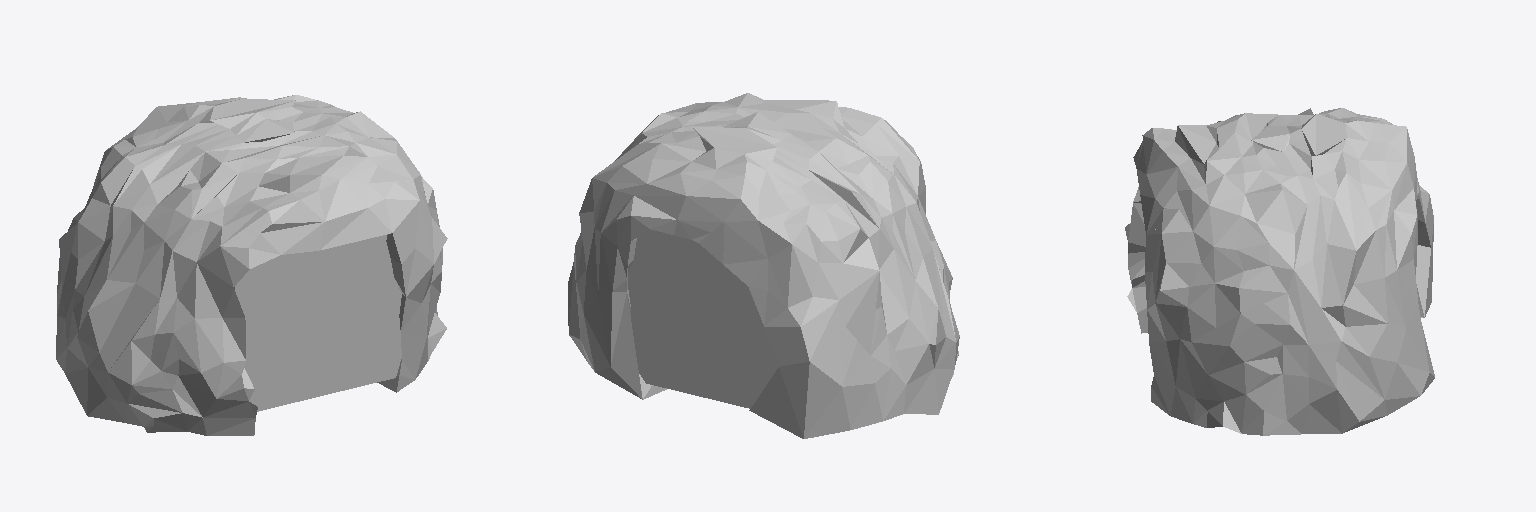
Rendered from cavefloor.mtl.obj.
The picture shows the model from 3 angles: view 1: azimuth 30°, elevation 25°; view 2: azimuth 150°, elevation 25°; view 3: azimuth 270°, elevation 25°; orthographic projection.
Parts seen in each view (by area): view 1: Torus.003, Cube; view 2: Torus.003, Cube; view 3: Torus.003.
Part boxes in pixels (x1,y1,x2,y2): Torus.003: (56, 95, 447, 435); Cube: (234, 234, 401, 411); Torus.003: (568, 93, 959, 438); Cube: (628, 229, 778, 408); Torus.003: (1125, 108, 1434, 435).
Bounding box in the file's own units: 22.28 × 16.32 × 17.3.